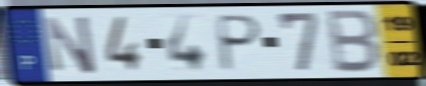4: (166, 12, 211, 75), (104, 14, 145, 74)
7: (274, 11, 324, 74)
B: (326, 8, 383, 75)
N: (42, 13, 99, 76)
P: (216, 13, 265, 74)
